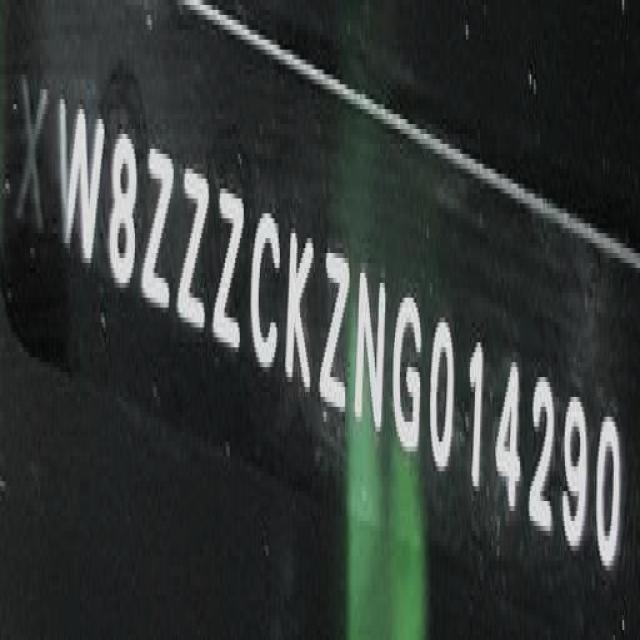0: (428, 296, 460, 482), (596, 394, 626, 576)
1: (465, 325, 486, 503)
2: (528, 357, 558, 547)
4: (496, 340, 526, 526)
8: (108, 112, 140, 298)
9: (561, 376, 589, 558)
C: (249, 197, 282, 380)
G: (394, 273, 426, 462)
K: (284, 211, 312, 410)
M: (353, 252, 390, 446)
W: (55, 75, 103, 276)
X: (12, 65, 52, 246)
Z: (143, 132, 174, 325), (213, 174, 244, 362), (320, 230, 350, 424), (180, 154, 211, 341)
